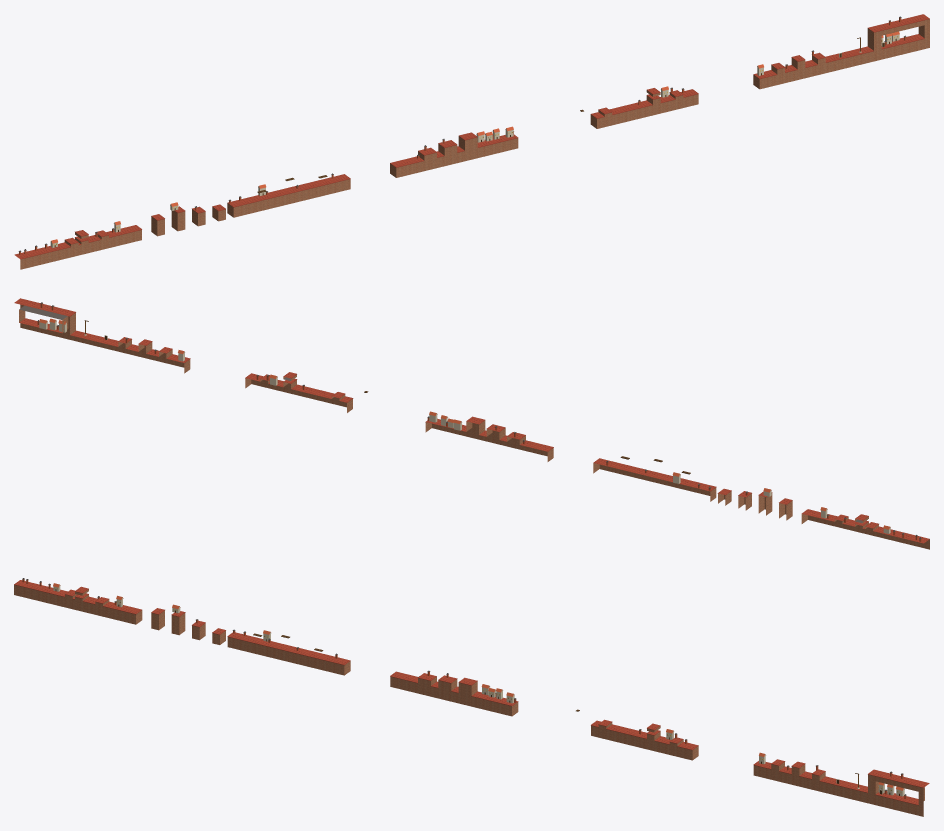
File: level-2.glb
3 renders of one model, top to bottom at view 1: azimuth 30°, elevation 25°; view 2: azimuth 150°, elevation 25°; view 3: azimuth 330°, elevation 25°, orthographic.
Parts seen in each view (by area): view 1: Sector_24_0, Sector_12_0, Sector_13_0, Sector_6_0, Sector_1_0, Sector_11_0, Sector_17_0, Sector_21_0, Sector_18_0, Sector_22_0, Sector_25_0, Sector_2_0 (+5 smaller); view 2: Sector_24_0, Sector_12_0, Sector_13_0, Sector_1_0, Sector_11_0, Sector_17_0, Sector_6_0; view 3: Sector_24_0, Sector_12_0, Sector_13_0, Sector_1_0, Sector_22_0, Sector_17_0, Sector_6_0, Sector_18_0, Sector_11_0, Sector_21_0, Sector_2_0, Sector_8_0 (+6 smaller).
Boxes of the visible parts, x1,y1,x2,y2 form: Sector_24_0: (867, 16, 909, 61); Sector_12_0: (441, 132, 482, 165); Sector_13_0: (476, 126, 518, 156); Sector_6_0: (227, 184, 269, 217); Sector_1_0: (50, 230, 91, 260); Sector_11_0: (405, 142, 446, 173); Sector_17_0: (619, 88, 660, 122); Sector_21_0: (764, 56, 802, 87); Sector_18_0: (660, 86, 695, 113); Sector_22_0: (797, 50, 838, 78); Sector_25_0: (903, 14, 929, 52); Sector_2_0: (86, 221, 126, 252); Sector_24_0: (34, 302, 75, 341); Sector_12_0: (461, 416, 502, 445); Sector_13_0: (425, 411, 467, 436); Sector_1_0: (853, 514, 894, 540); Sector_11_0: (497, 427, 538, 453); Sector_17_0: (283, 372, 324, 401); Sector_6_0: (672, 471, 716, 501); Sector_24_0: (868, 769, 909, 811); Sector_12_0: (441, 673, 481, 707); Sector_13_0: (476, 684, 518, 716); Sector_1_0: (49, 583, 90, 612); Sector_22_0: (796, 763, 836, 794); Sector_17_0: (619, 723, 660, 750); Sector_6_0: (227, 629, 270, 655); Sector_18_0: (654, 729, 695, 759); Sector_11_0: (405, 670, 446, 698); Sector_21_0: (761, 759, 802, 785); Sector_2_0: (85, 595, 126, 620); Sector_8_0: (298, 648, 339, 672).
Bounding box in the file's own units: 358 × 13.01 × 4.7.
Materials: 1 (1 with a texture image).
